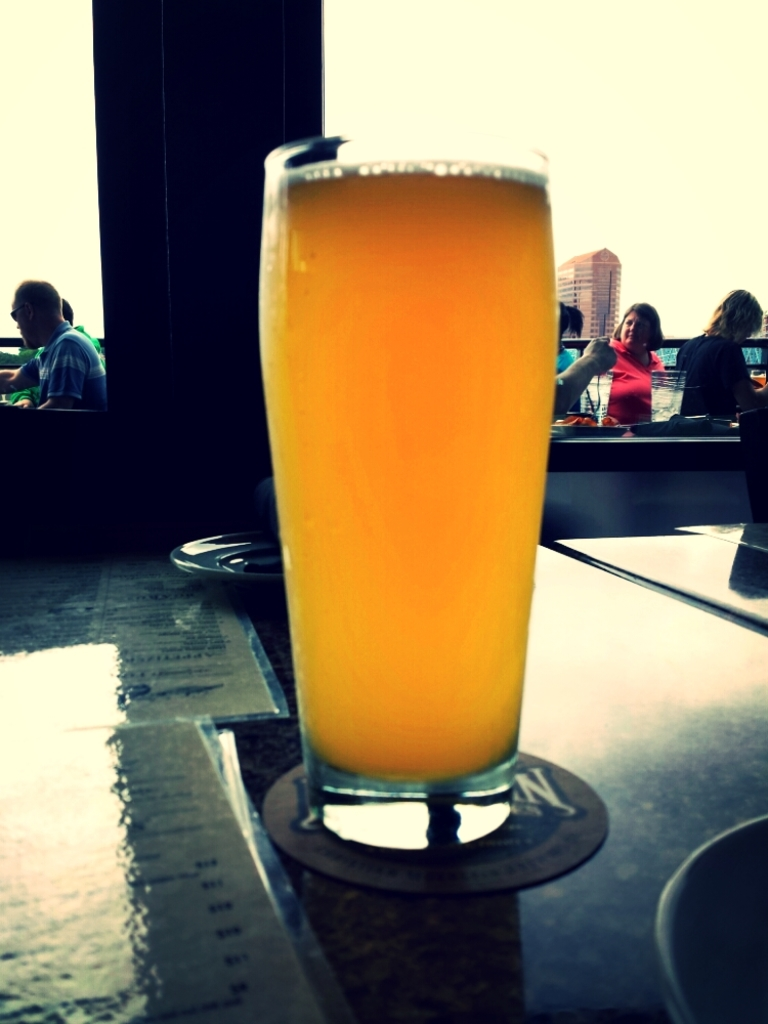Beer: (257, 107, 533, 852)
